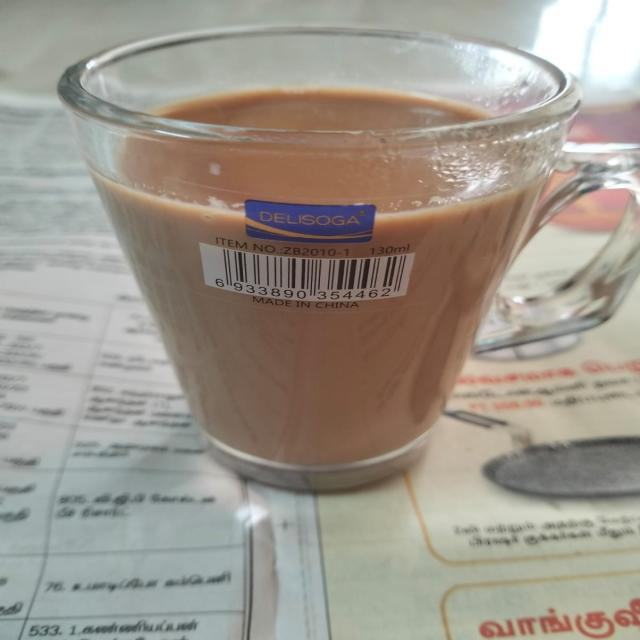glass-VX4N: (56, 22, 640, 495)
